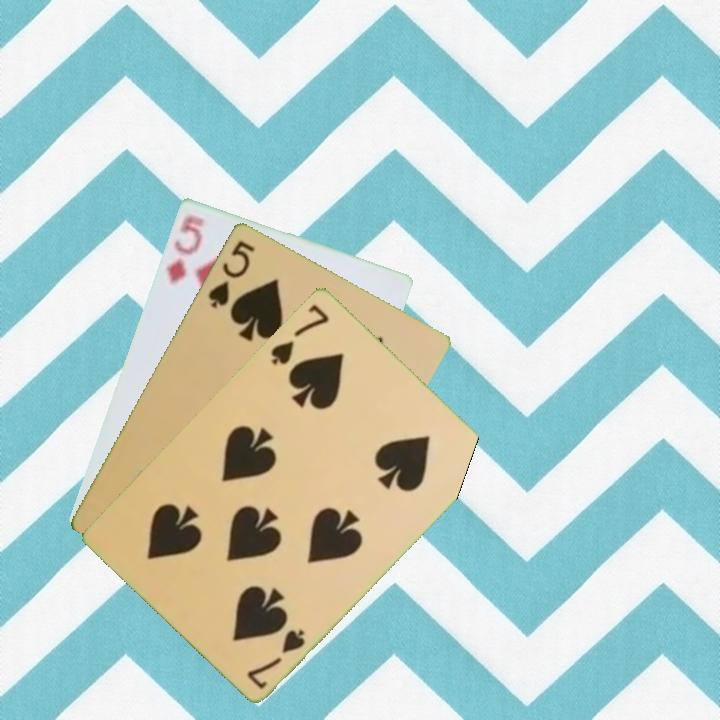5d: (162, 209, 207, 287)
5s: (204, 236, 258, 311)
7s: (267, 300, 332, 368), (243, 625, 308, 692)
